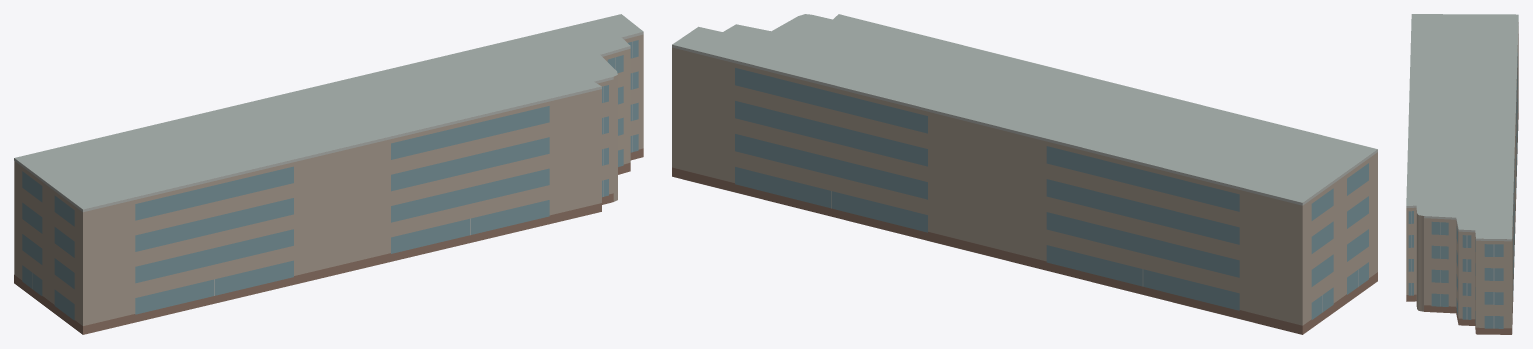
The model's file is survey-upis-32942513.glb.
The picture shows the model from 3 angles, left to right: view 1: azimuth 30°, elevation 25°; view 2: azimuth 150°, elevation 25°; view 3: azimuth 270°, elevation 25°; orthographic projection. The views are drawn at different scales.
Visible parts, largest first — view 1: survey-upis-32942513.tmp; view 2: survey-upis-32942513.tmp; view 3: survey-upis-32942513.tmp.
Part boxes in pixels (x1,y1,x2,y2): survey-upis-32942513.tmp: [14, 14, 643, 334]; survey-upis-32942513.tmp: [672, 14, 1377, 334]; survey-upis-32942513.tmp: [1406, 14, 1518, 334].
Size of the model in its own units: 57.52 by 11.4 by 12.15.
